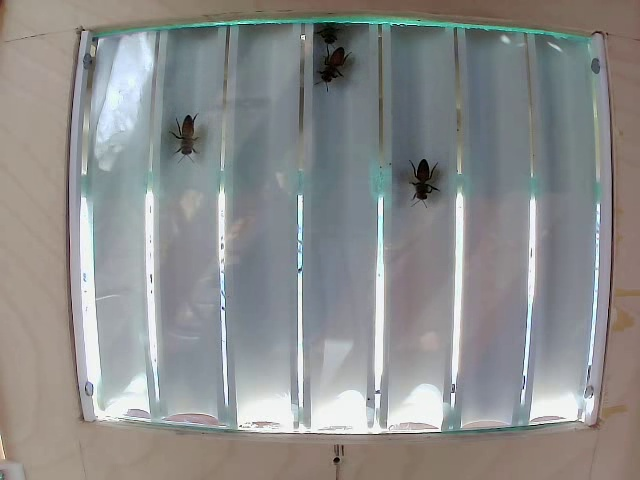bee: (404, 157, 444, 215), (166, 119, 202, 170), (314, 53, 355, 91)
